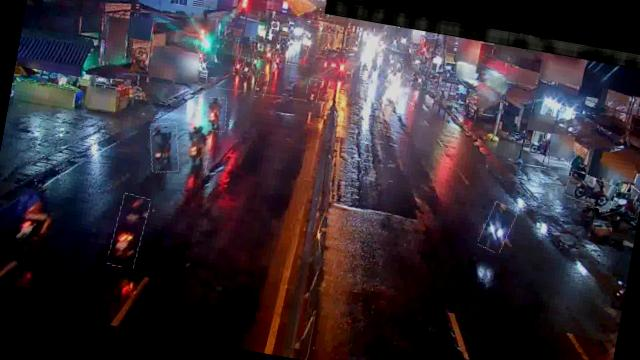Bike: (0, 191, 58, 255), (108, 192, 150, 269), (145, 120, 184, 175), (564, 171, 619, 210), (478, 202, 516, 253), (184, 121, 213, 172), (202, 96, 230, 132), (305, 78, 322, 103), (254, 71, 269, 98), (241, 57, 254, 78), (232, 55, 245, 75)
